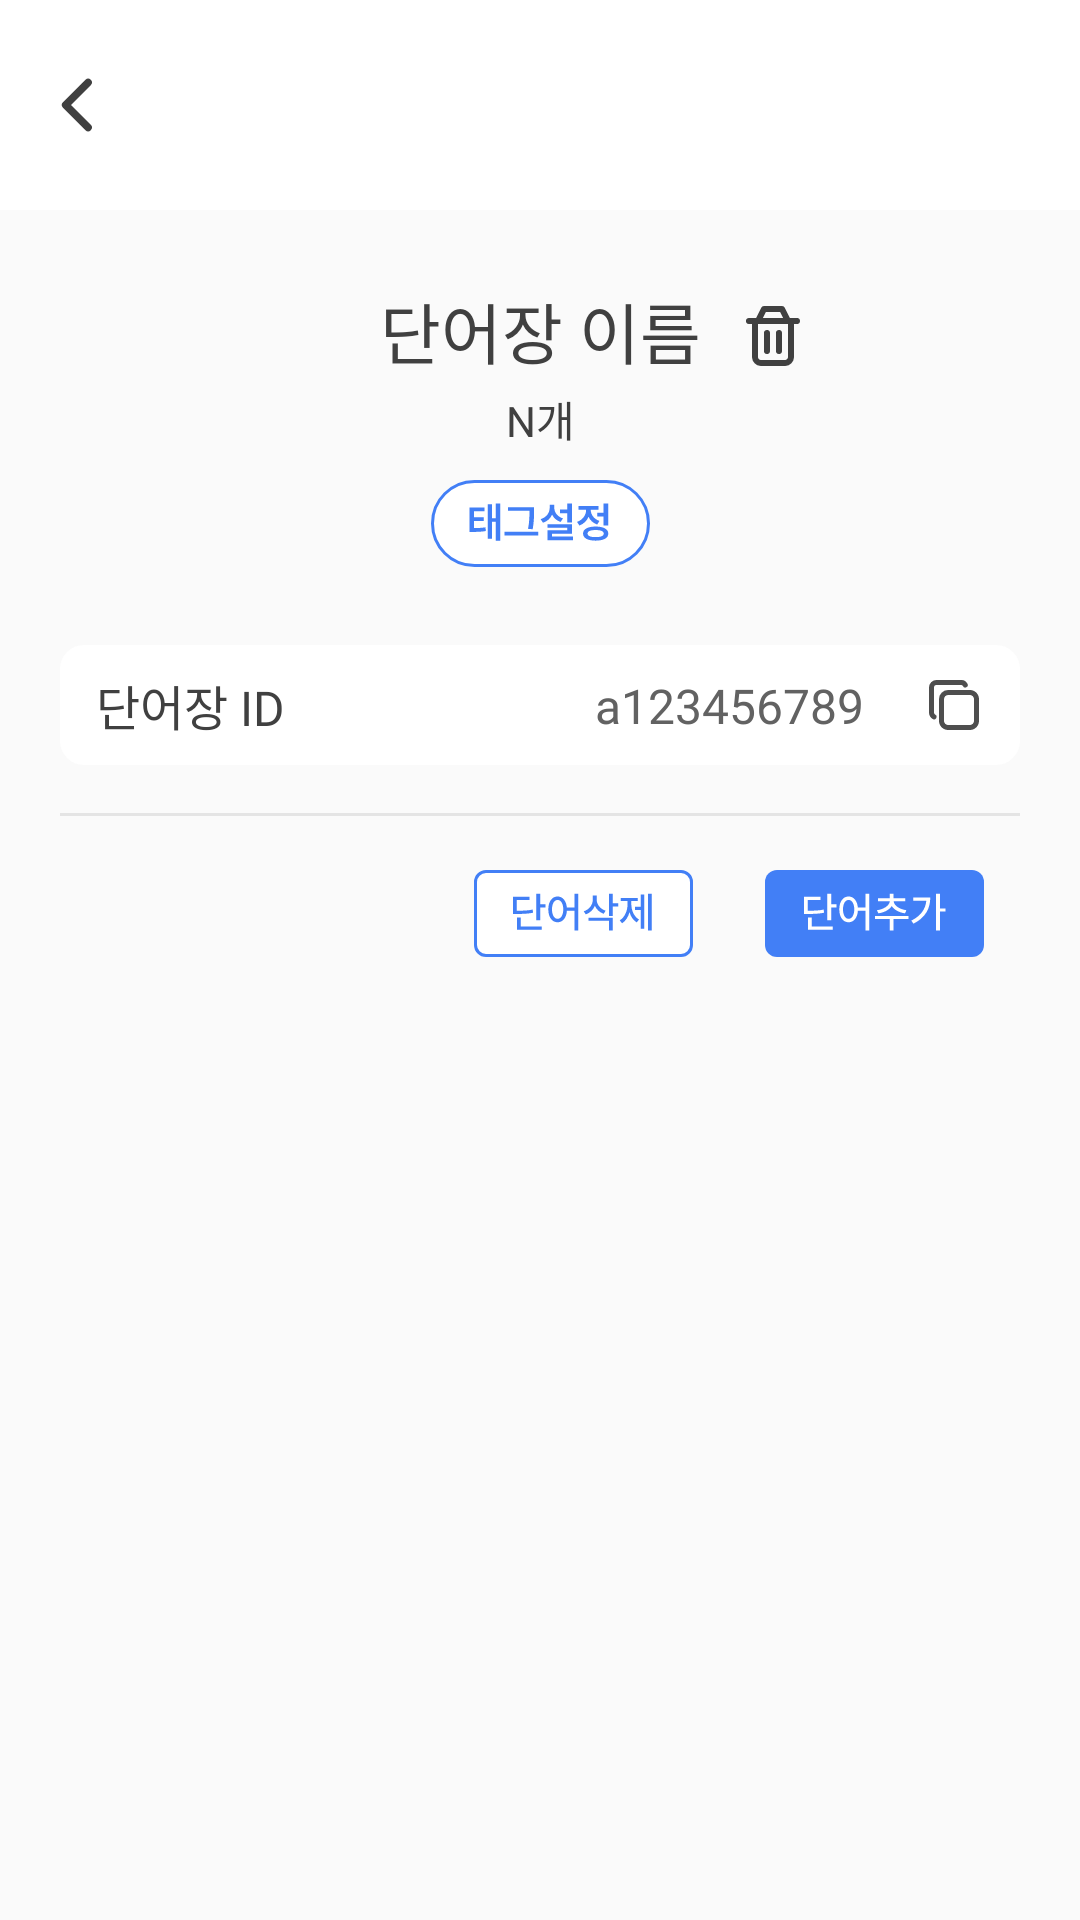

Named icons in this screenshot (1080x1920) and their centers, (x=x, y=y):
back: (x=76, y=105)
trash: (x=773, y=336)
